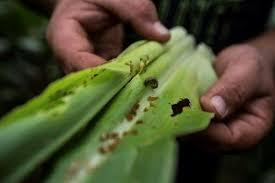fallarmy_worm: (141, 74, 161, 90)
